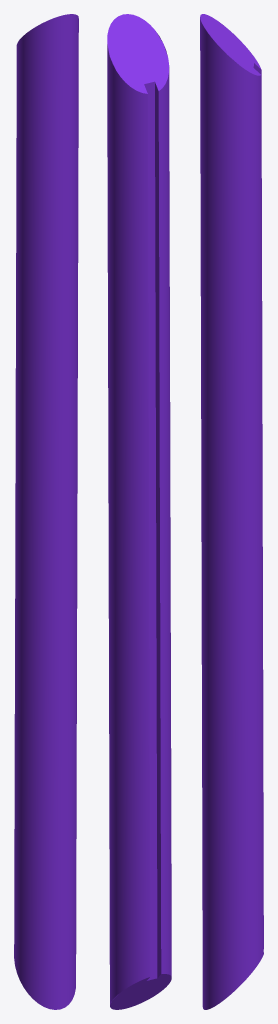
The model's file is cotporte.glb.
3 renders of one model, left to right at view 1: azimuth 30°, elevation 25°; view 2: azimuth 210°, elevation 25°; view 3: azimuth 270°, elevation 25°, orthographic.
Visible parts, largest first — view 1: opening_door.003; view 2: opening_door.003; view 3: opening_door.003.
Part boxes in pixels (bbox=[...]): opening_door.003: bbox=[14, 14, 78, 1009]; opening_door.003: bbox=[107, 14, 171, 1009]; opening_door.003: bbox=[200, 14, 263, 1009].
Bounding box in the file's own units: 4.12 × 71.19 × 4.16.
